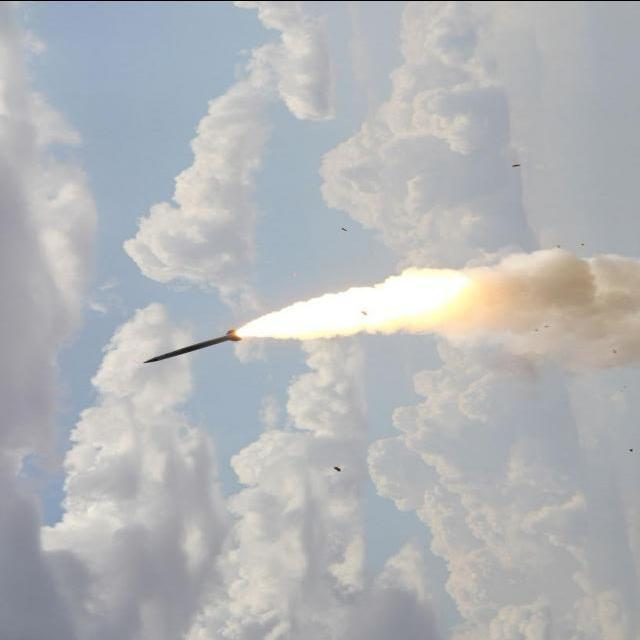missile: (147, 331, 240, 363)
